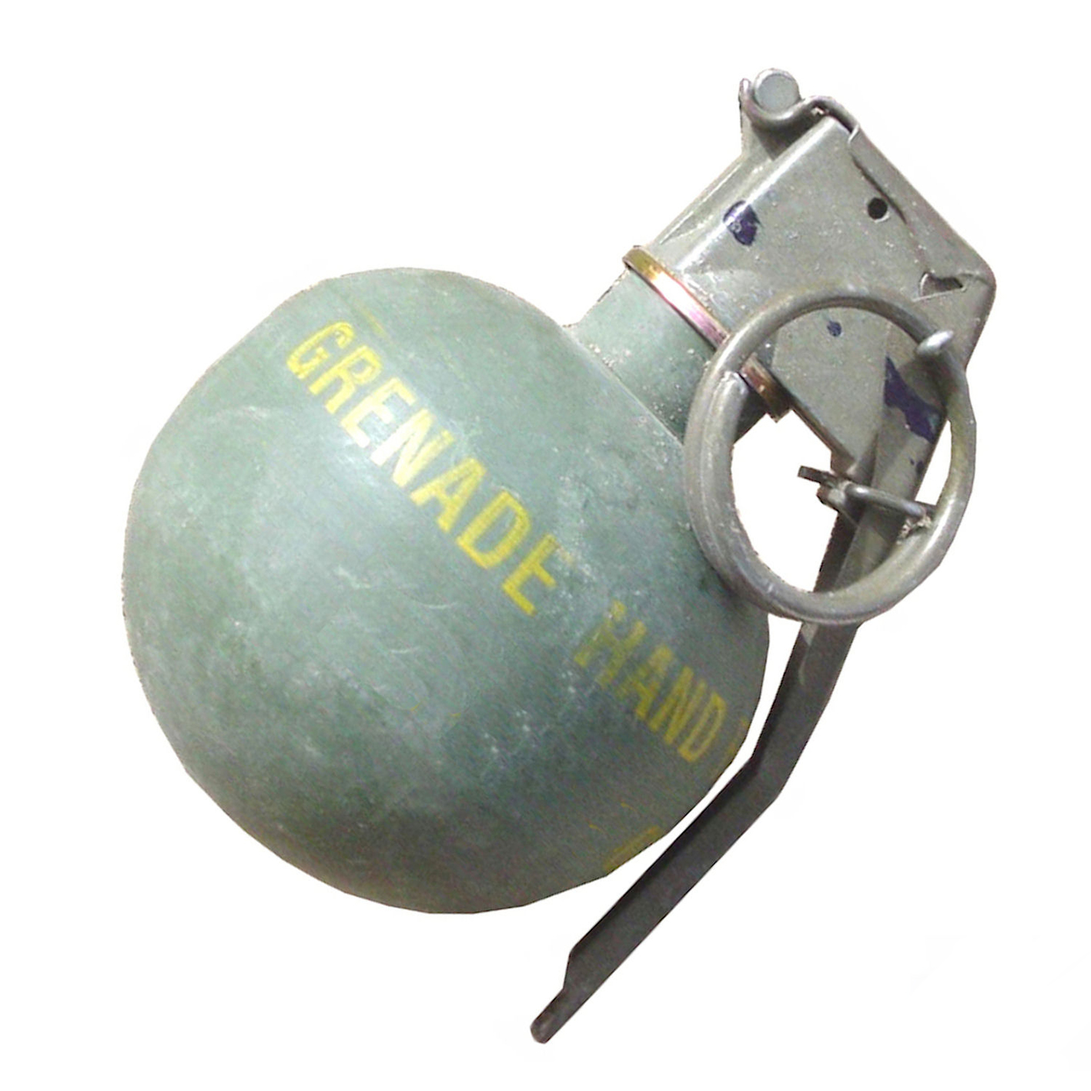mine: (722, 198, 765, 246)
